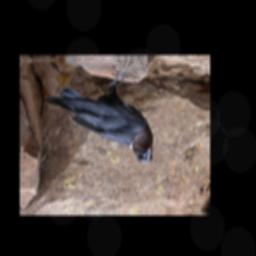Crow: (43, 57, 154, 167)
